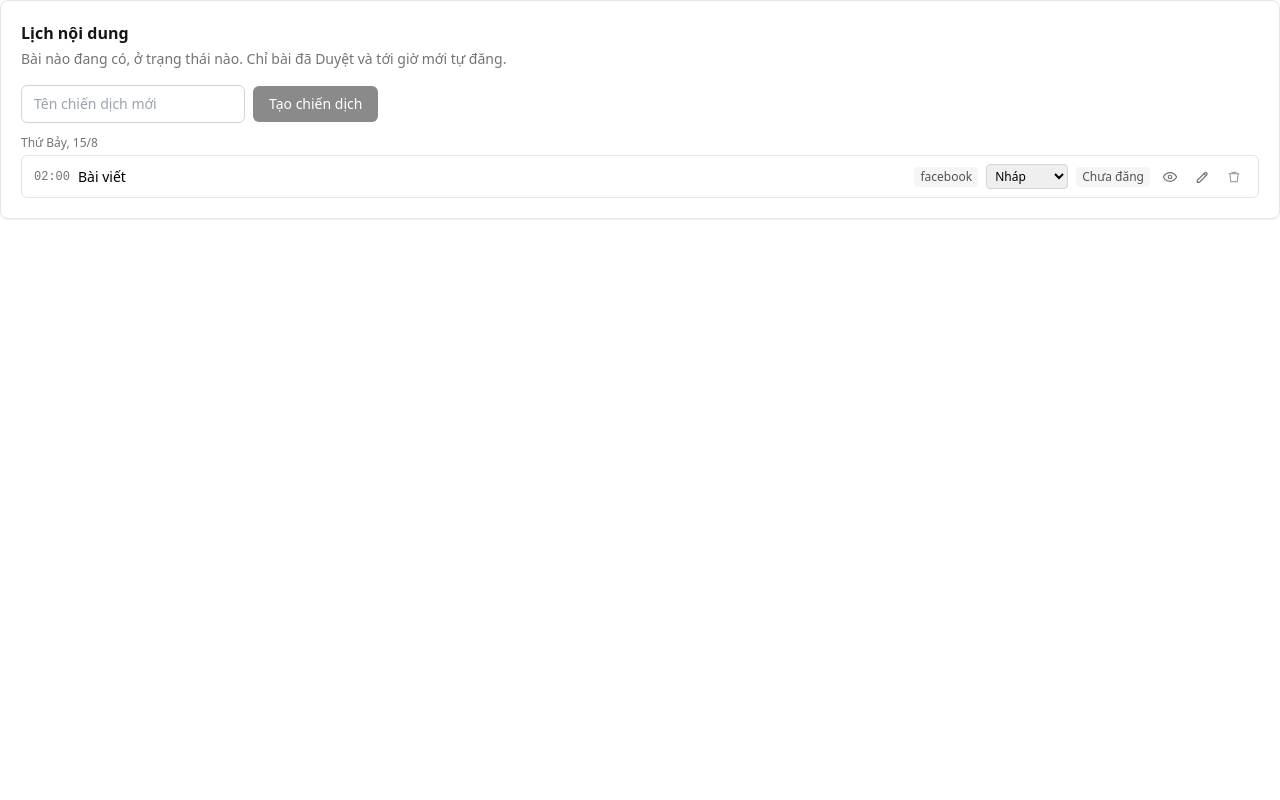
it: CalendarPanel › reports a failed save inside the dialog, not behind it
Expected: the text "Bài viết" is shown, top-left (78, 166), bottom-right (126, 186)
Click the button named "Sửa \"Bài viết\"".
click(1202, 176)  # box top-left (1190, 164), bottom-right (1214, 188)
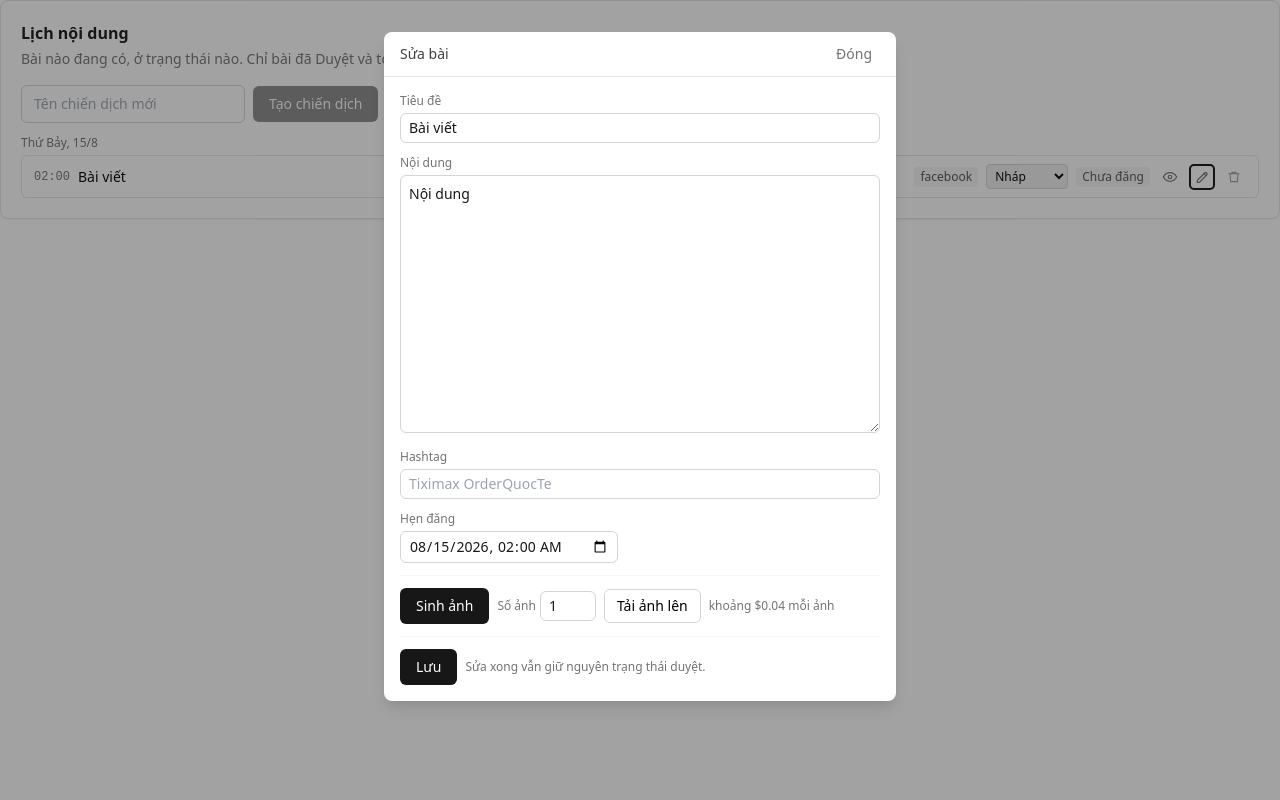
Type " thêm" into the field labelled "Tiêu đề".
click(640, 128); type(" thêm")  # box top-left (400, 113), bottom-right (880, 143)
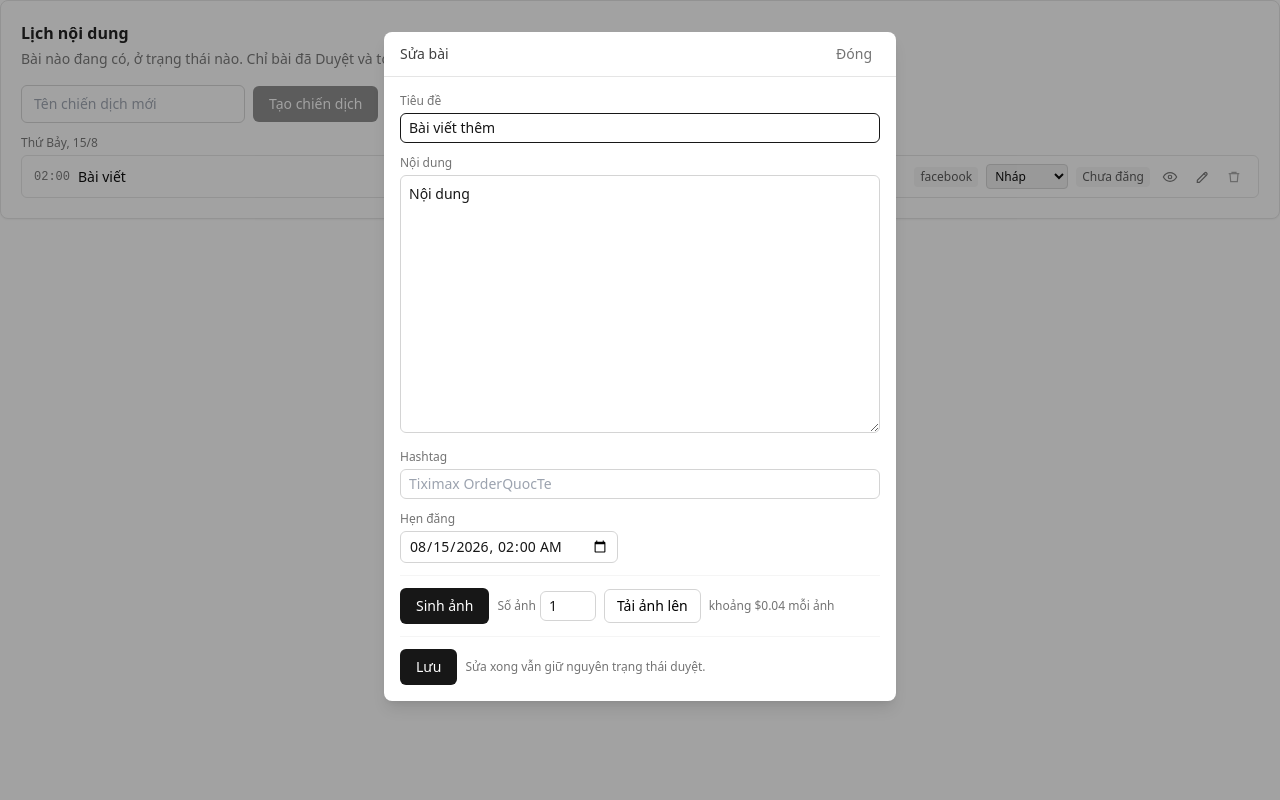
Click the button "Lưu".
click(429, 667)  # box top-left (400, 649), bottom-right (457, 685)
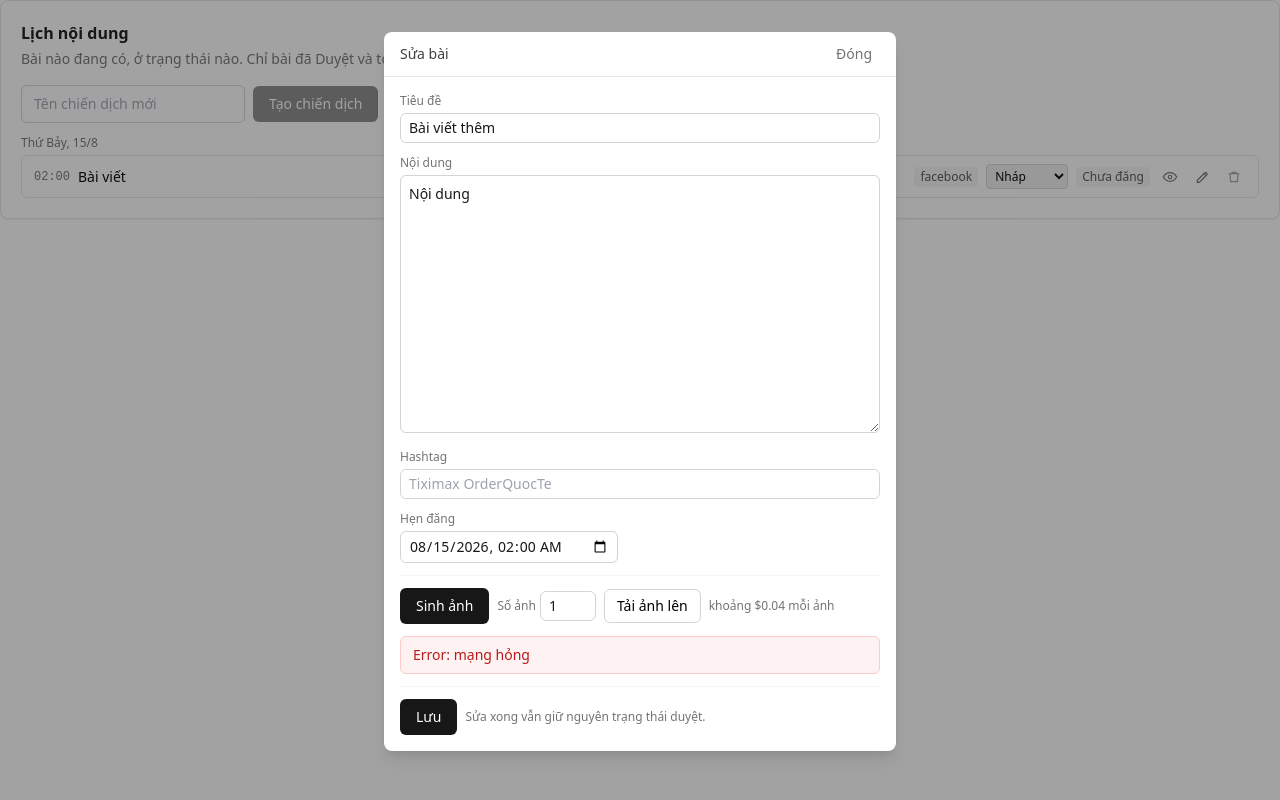
Result: the text "Error: mạng hỏng" is shown at top-left (400, 636), bottom-right (880, 674)
